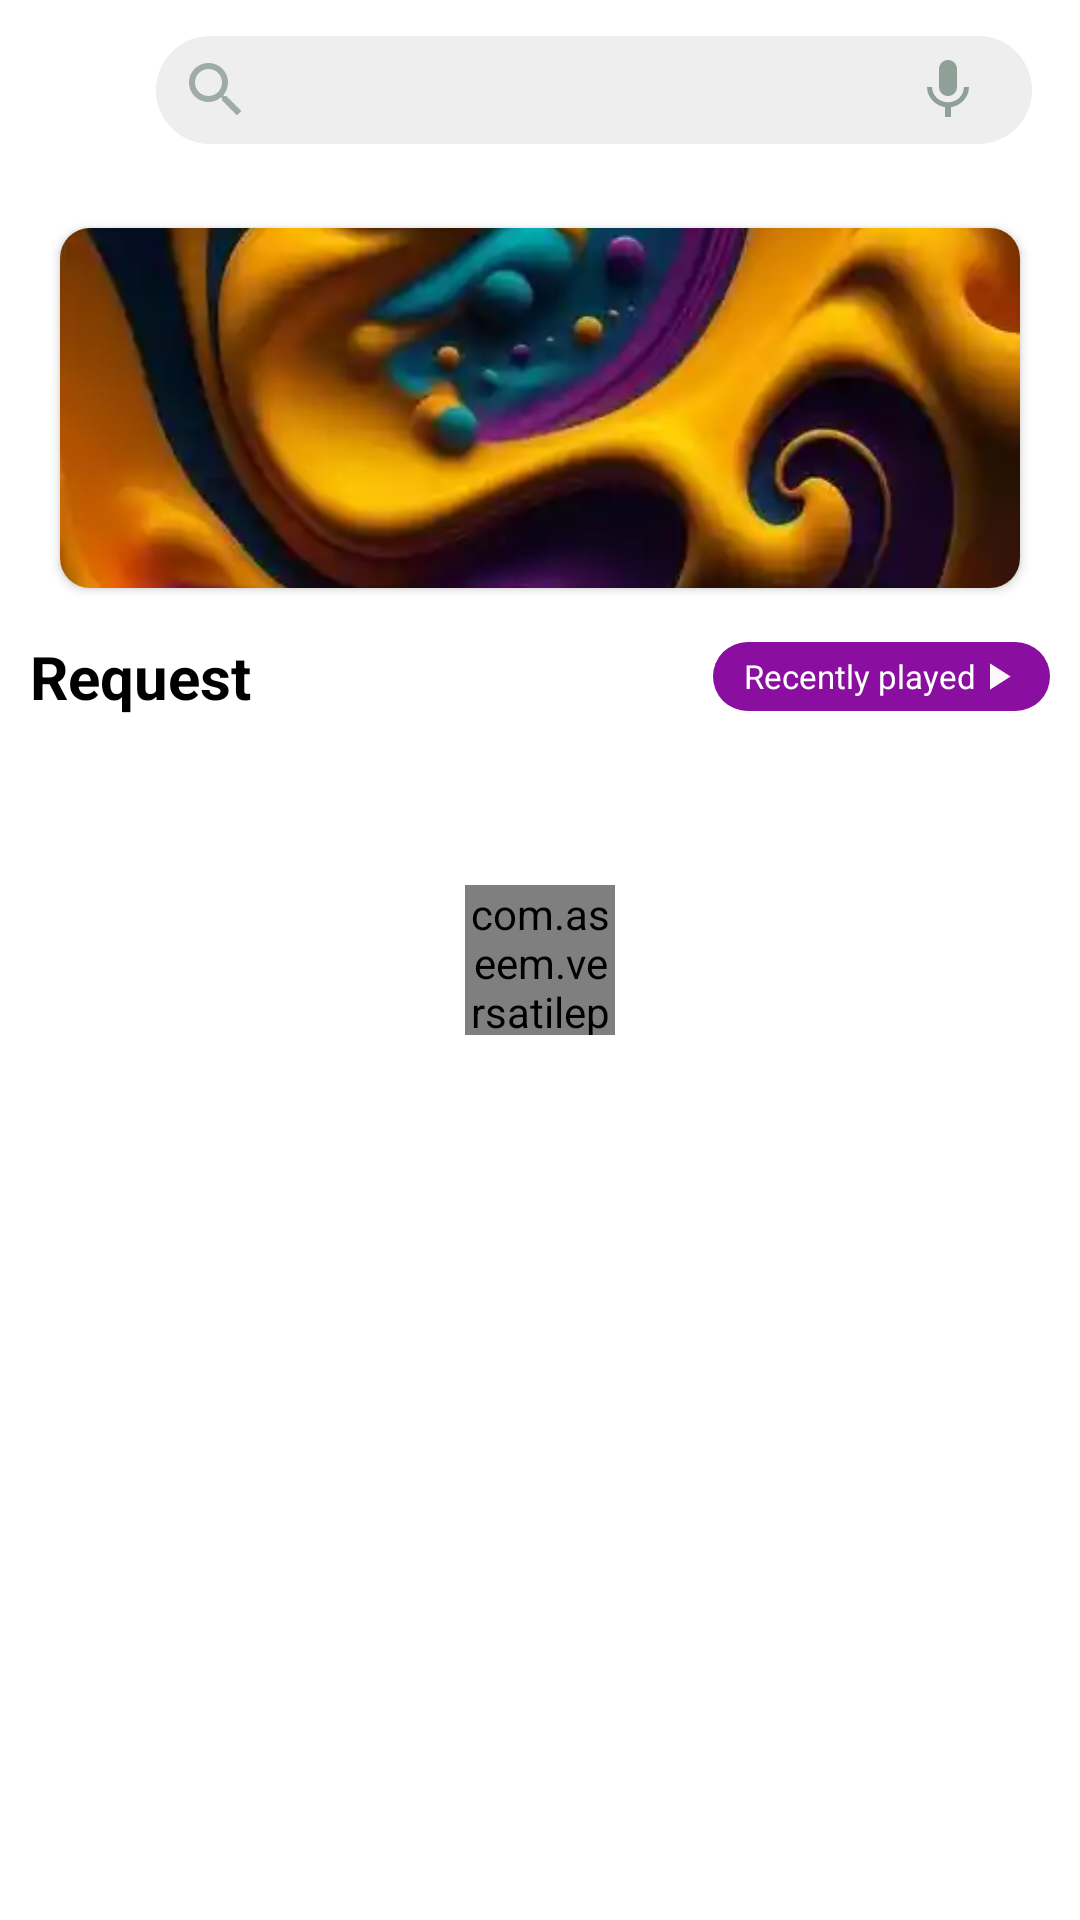

Locate icon controls on the screen. Image size 1080 × 1920, boxes as (x1, y1, x2, y2).
mic: (927, 60, 969, 117)
